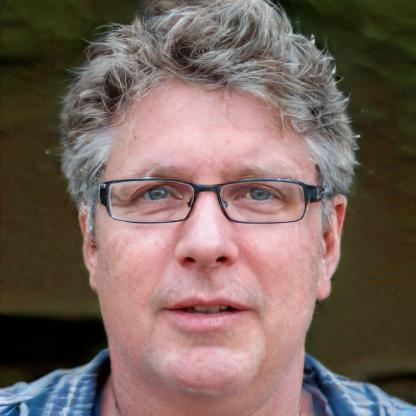glasses: (96, 172, 313, 231)
